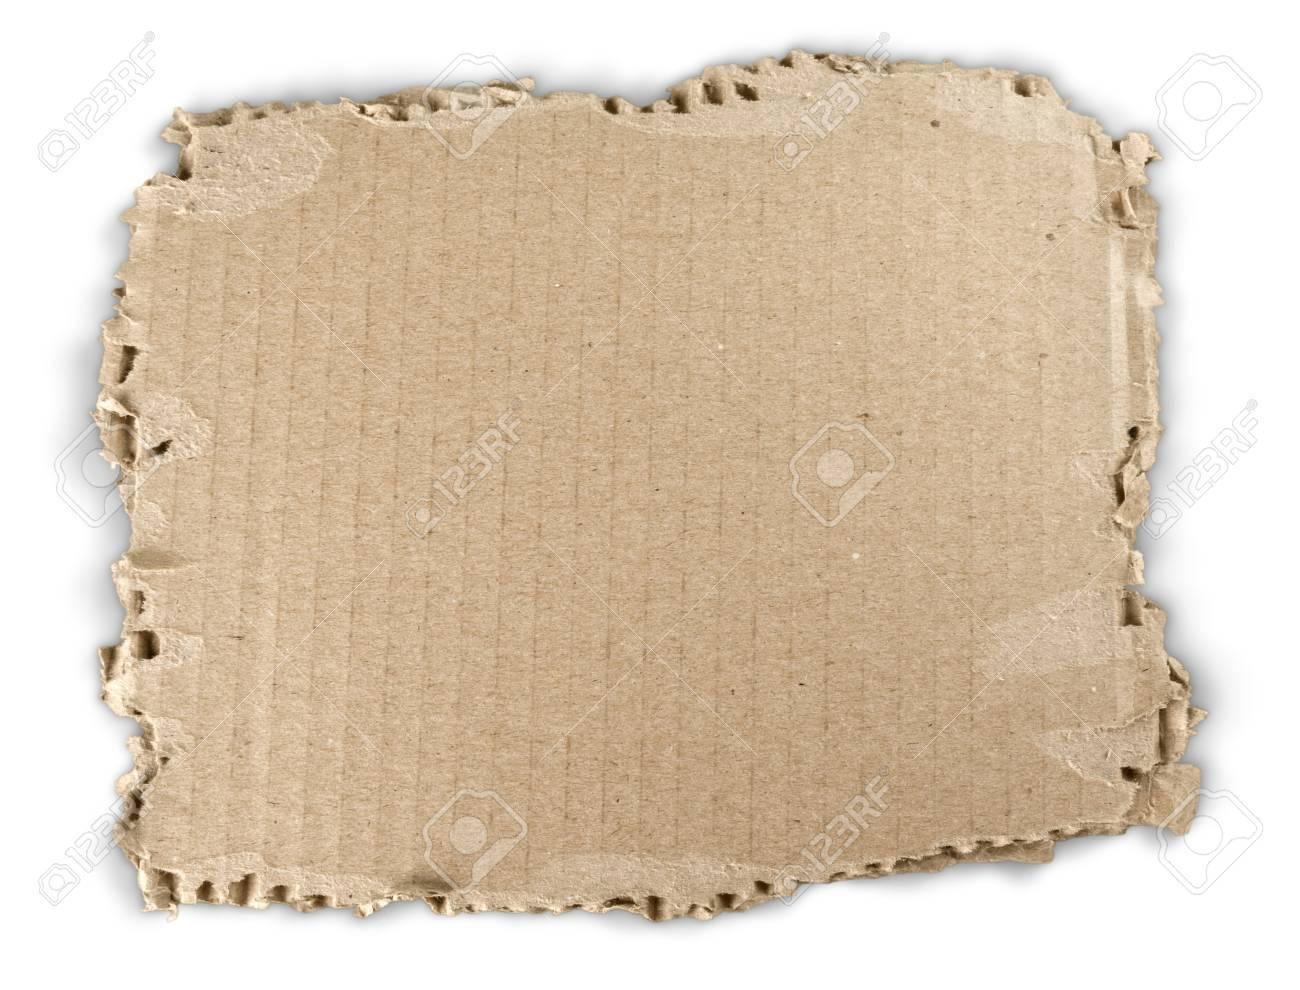plastic: (55, 23, 1215, 965)
